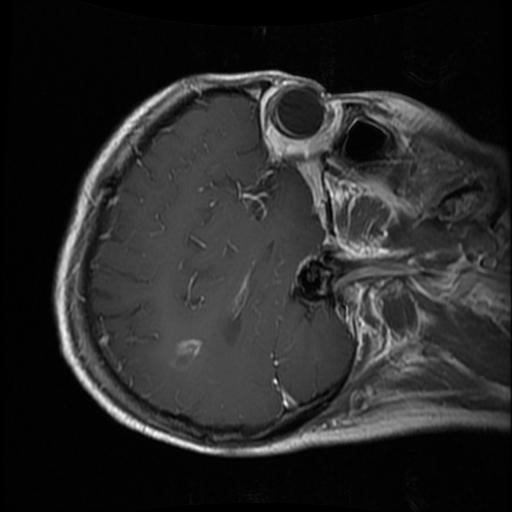glioma: (167, 338, 202, 371)
